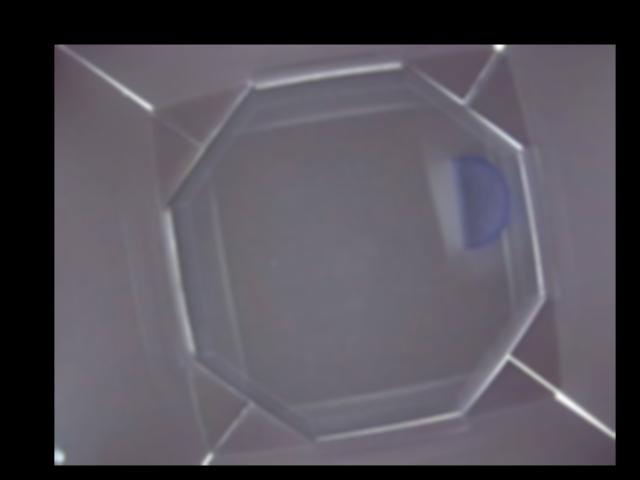Mooli: (447, 156, 513, 247)
